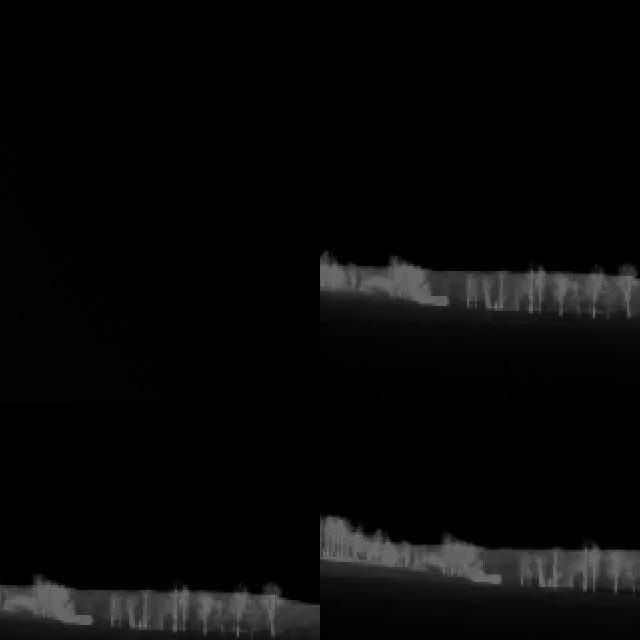0: (320, 427, 343, 457)
drone: (69, 138, 106, 185)
